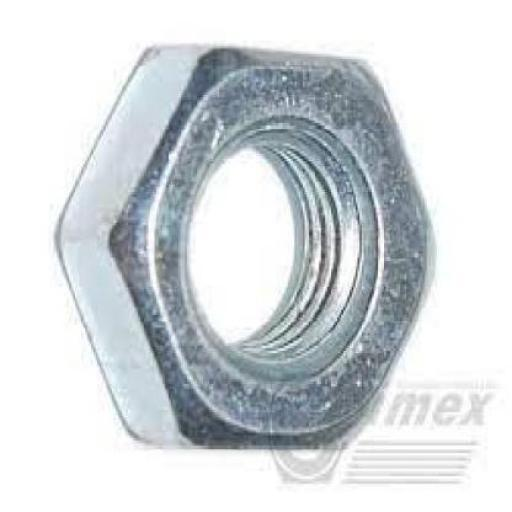Nut: (53, 42, 436, 452)
